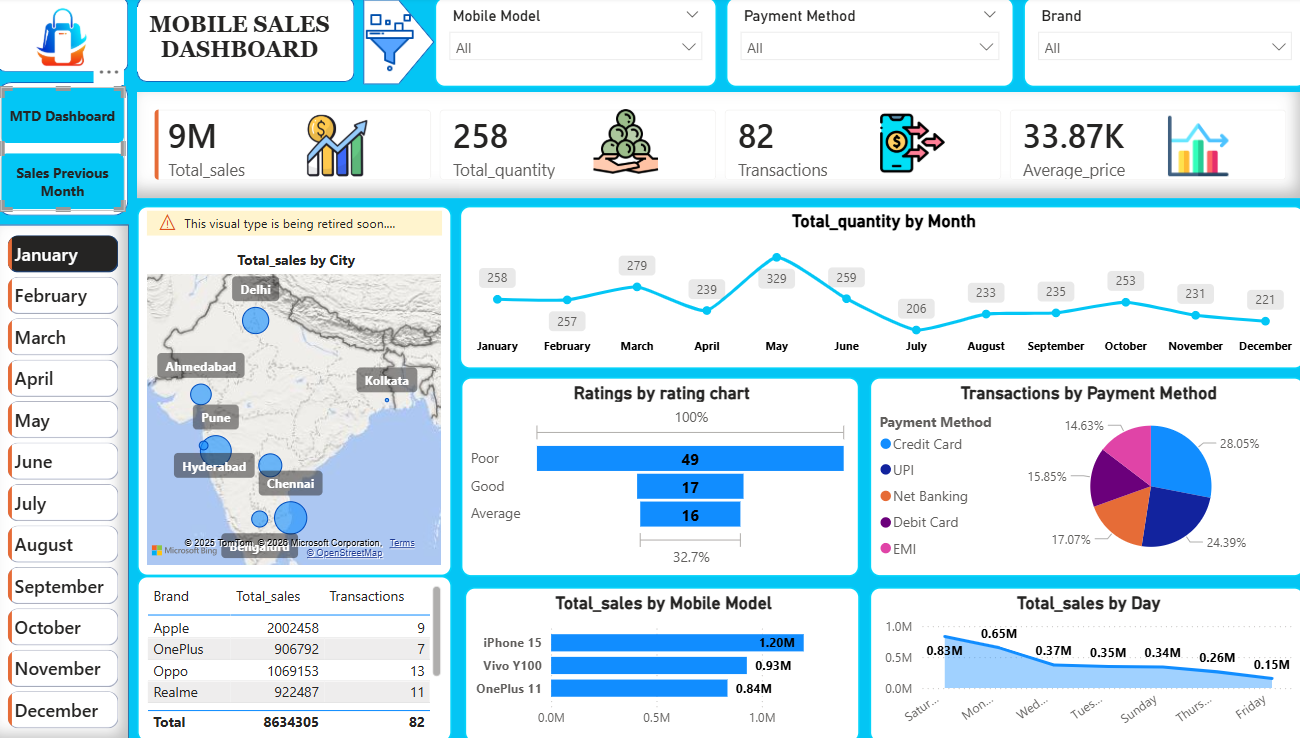

The page's visual inventory and layout, read from the dashboard file:
{"tool":"powerbi","page":{"name":"Dashboard","canvas":[1280,720],"ordinal":0},"visuals":[{"type":"shape","box":[0,0,126.7,72.4],"z":0},{"type":"cardVisual","fields":{"Data":["Mobile_sales_dashboard.Total_sales","Mobile_sales_dashboard.Total_quantity","Mobile_sales_dashboard.Transactions","Mobile_sales_dashboard.Average_price"]},"box":[135,91.2,1127.5,102.5],"z":1000},{"type":"image","box":[13.3,0,101.3,72.4],"z":2000},{"type":"shape","box":[0,82,126.7,129.1],"z":3000},{"type":"image","box":[278.8,111.6,98.8,62.3],"z":4000,"group":"g1"},{"type":"shape","box":[0,220,127.5,500],"z":4000},{"type":"slicer","fields":{"Values":["Mobile_sales_dashboard.Mobile Model"]},"box":[422.3,0,272.7,86.9],"z":5000},{"type":"slicer","fields":{"Values":["Mobile_sales_dashboard.Payment Method"]},"box":[703.4,0,278.7,86.9],"z":6000},{"type":"slicer","fields":{"Values":["Mobile_sales_dashboard.Brand"]},"box":[990.5,0,273.9,86.9],"z":7000},{"type":"shape","box":[135.1,0,209.9,82],"z":8000},{"type":"textbox","box":[135.1,9.7,197.9,62.7],"z":9000},{"type":"shape","box":[353.5,2.4,68.8,82],"z":10000},{"type":"image","box":[345,15.7,67.6,56.7],"z":11000},{"type":"advancedSlicerVisual","fields":{"Values":["Custom_Calendar.Date.Variation.Date Hierarchy.Month"]},"box":[0,220,127.5,500],"z":12000},{"type":"map","fields":{"Category":["Mobile_sales_dashboard.City"],"Size":["Mobile_sales_dashboard.Total_sales"]},"box":[135,201.2,303.8,357.5],"z":13000},{"type":"lineChart","fields":{"Category":["Custom_Calendar.Date.Variation.Date Hierarchy.Month"],"Y":["Mobile_sales_dashboard.Total_quantity"]},"box":[446.2,201.2,816.2,157.5],"z":14000},{"type":"funnel","title":" Ratings by rating chart","fields":{"Y":["CountNonNull(Mobile_sales_dashboard.Customer Ratings)"],"Category":["Mobile_sales_dashboard.Customer rating chart"]},"box":[447.5,366.2,385,192.5],"z":15000},{"type":"group","id":"g1","title":"Group 1","box":[278.8,106.2,962.5,67.7],"z":16000},{"type":"pieChart","fields":{"Category":["Mobile_sales_dashboard.Payment Method"],"Y":["Mobile_sales_dashboard.Transactions"]},"box":[842.5,366.2,420,192.5],"z":17000},{"type":"image","box":[530,106.2,155,66.2],"z":18000,"group":"g1"},{"type":"clusteredBarChart","fields":{"Y":["Mobile_sales_dashboard.Total_sales"],"Category":["Mobile_sales_dashboard.Mobile Model"]},"box":[451.2,570,381.2,150],"z":18000},{"type":"areaChart","title":"Total_sales by Day ","fields":{"Category":["Custom_Calendar.Day Name"],"Y":["Mobile_sales_dashboard.Total_sales"]},"box":[842.5,570,420,150],"z":19000},{"type":"tableEx","fields":{"Values":["Mobile_sales_dashboard.Brand","Mobile_sales_dashboard.Total_sales","Mobile_sales_dashboard.Transactions"]},"box":[135,559,304,161],"z":20000},{"type":"image","box":[811.3,110,146.2,62.5],"z":20001,"group":"g1"},{"type":"pageNavigator","box":[3.6,86.9,119.4,119.4],"z":20001},{"type":"image","box":[1077.6,115,163.8,58.8],"z":20501,"group":"g1"}]}

Visuals, with their boxes in screenshot pixels (x1, y1, x2, y2), scaled from the page's 1280x720 canvas onto the 1300x738 screenshot:
shape: (0, 0, 129, 74)
cardVisual - Mobile_sales_dashboard.Total_sales x Mobile_sales_dashboard.Total_quantity: (137, 93, 1282, 199)
image: (14, 0, 116, 74)
shape: (0, 84, 129, 216)
image: (283, 114, 384, 178)
shape: (0, 225, 129, 737)
slicer - Mobile_sales_dashboard.Mobile Model: (429, 0, 706, 89)
slicer - Mobile_sales_dashboard.Payment Method: (714, 0, 997, 89)
slicer - Mobile_sales_dashboard.Brand: (1006, 0, 1284, 89)
shape: (137, 0, 350, 84)
textbox: (137, 10, 338, 74)
shape: (359, 2, 429, 87)
image: (350, 16, 419, 74)
advancedSlicerVisual - Custom_Calendar.Date.Variation.Date Hierarchy.Month: (0, 225, 129, 737)
map - Mobile_sales_dashboard.City x Mobile_sales_dashboard.Total_sales: (137, 206, 446, 573)
lineChart - Custom_Calendar.Date.Variation.Date Hierarchy.Month x Mobile_sales_dashboard.Total_quantity: (453, 206, 1282, 368)
" Ratings by rating chart" funnel: (454, 375, 846, 573)
"Group 1" group: (283, 109, 1261, 178)
pieChart - Mobile_sales_dashboard.Payment Method x Mobile_sales_dashboard.Transactions: (856, 375, 1282, 573)
image: (538, 109, 696, 177)
clusteredBarChart - Mobile_sales_dashboard.Total_sales x Mobile_sales_dashboard.Mobile Model: (458, 584, 845, 737)
"Total_sales by Day " areaChart: (856, 584, 1282, 737)
tableEx - Mobile_sales_dashboard.Brand x Mobile_sales_dashboard.Total_sales: (137, 573, 446, 737)
image: (824, 113, 972, 177)
pageNavigator: (4, 89, 125, 211)
image: (1094, 118, 1261, 178)
